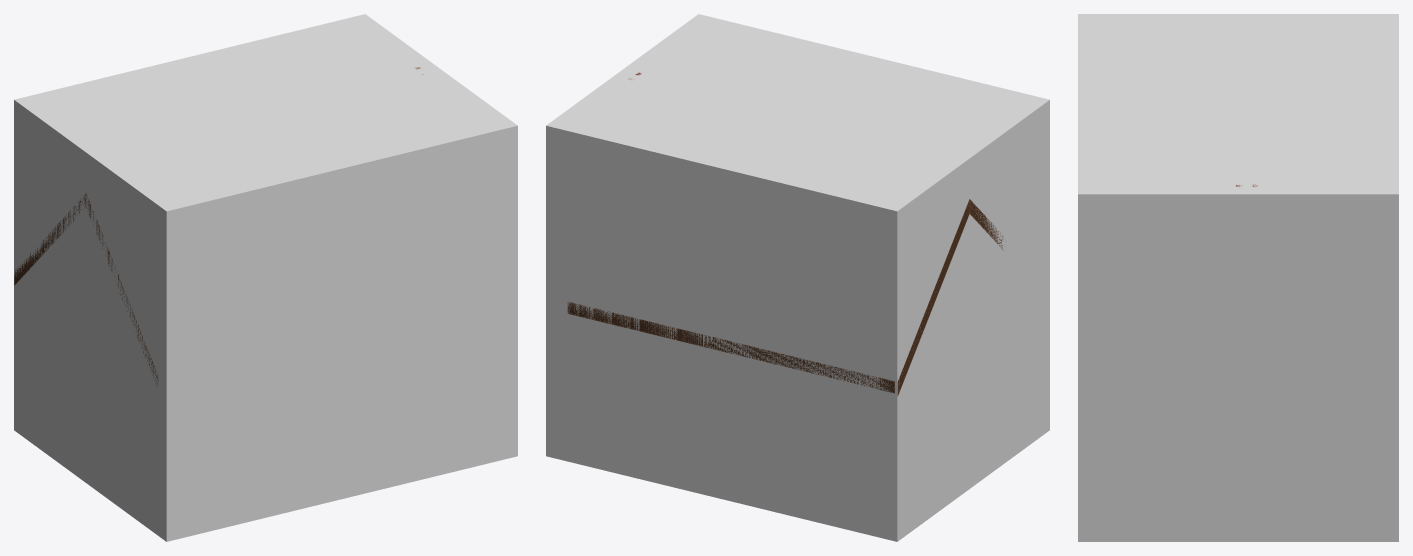
Rendered from house_cottage.glb.
The picture shows the model from 3 angles, left to right: view 1: azimuth 30°, elevation 25°; view 2: azimuth 150°, elevation 25°; view 3: azimuth 270°, elevation 25°; orthographic projection. The views are drawn at different scales.
Visible parts, largest first — view 1: COL_house_cottage_static_00, house_cottage_static; view 2: COL_house_cottage_static_00, house_cottage_static; view 3: COL_house_cottage_static_00.
Part boxes in pixels (x1,y1,x2,y2): COL_house_cottage_static_00: (14, 14, 517, 541); house_cottage_static: (14, 67, 423, 386); COL_house_cottage_static_00: (546, 14, 1049, 541); house_cottage_static: (567, 72, 1003, 396); COL_house_cottage_static_00: (1078, 14, 1398, 541).
Size of the model in its own units: 7.37 by 6.62 by 5.54.
7 materials, 7 textured.
